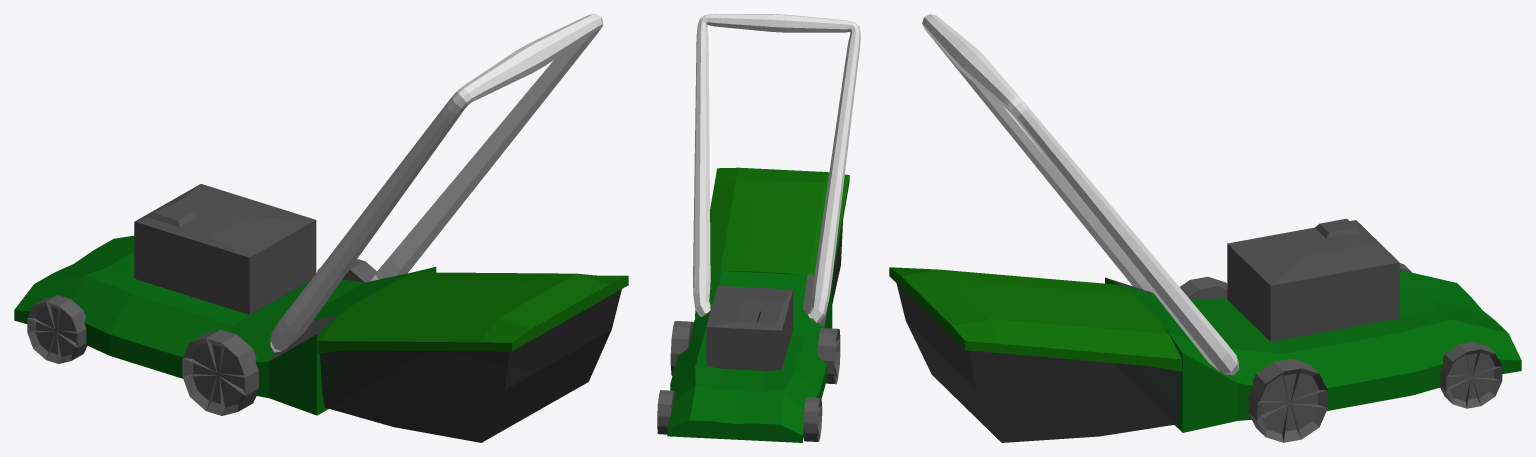
Rendered from lawnmower.fbx.
The picture shows the model from 3 angles, left to right: view 1: azimuth 30°, elevation 25°; view 2: azimuth 150°, elevation 25°; view 3: azimuth 270°, elevation 25°; orthographic projection. The views are drawn at different scales.
Parts seen in each view (by area): view 1: Cube.001, Cube.007, Cube.002, Cube, Plan, Cube.005, Cube.006; view 2: Cube.007, Cube.002, Plan, Cube, Cube.005, Cube.006, Cube.003, Cube.004, Cube.001; view 3: Cube.007, Cube.001, Cube.002, Cube, Plan, Cube.003, Cube.004, Cube.005.
Boxes of the visible parts, box(x1,y1,x2,y2) form: Cube.001: box(320, 289, 621, 442); Cube.007: box(14, 235, 436, 415); Cube.002: box(318, 272, 628, 353); Cube: box(134, 184, 337, 360); Plan: box(270, 14, 603, 352); Cube.005: box(182, 329, 258, 415); Cube.006: box(27, 295, 87, 363); Cube.007: box(667, 269, 832, 442); Cube.002: box(710, 167, 849, 281); Plan: box(693, 14, 860, 322); Cube: box(706, 273, 832, 370); Cube.005: box(817, 328, 840, 384); Cube.006: box(803, 397, 822, 441); Cube.003: box(670, 321, 693, 375); Cube.004: box(657, 390, 675, 434); Cube.001: box(832, 221, 842, 303); Cube.007: box(1105, 270, 1521, 432); Cube.001: box(896, 283, 1180, 442); Cube.002: box(889, 267, 1181, 371); Cube: box(1105, 218, 1399, 341); Plan: box(922, 14, 1239, 375); Cube.003: box(1248, 358, 1327, 442); Cube.004: box(1440, 341, 1502, 408); Cube.005: box(1180, 276, 1227, 299).
Size of the model in its own units: 456 by 471 by 682.
